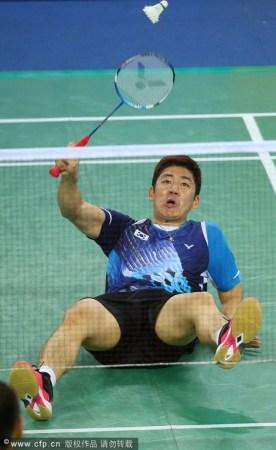fall: (6, 126, 272, 413)
